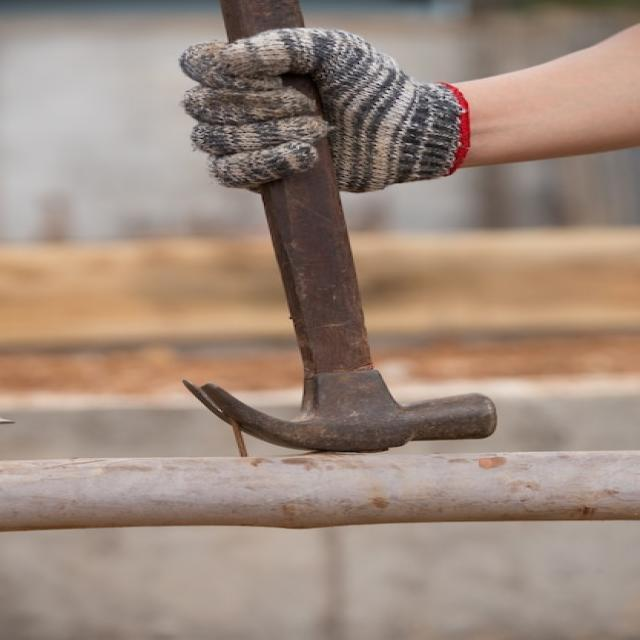hammer: (150, 0, 514, 455)
